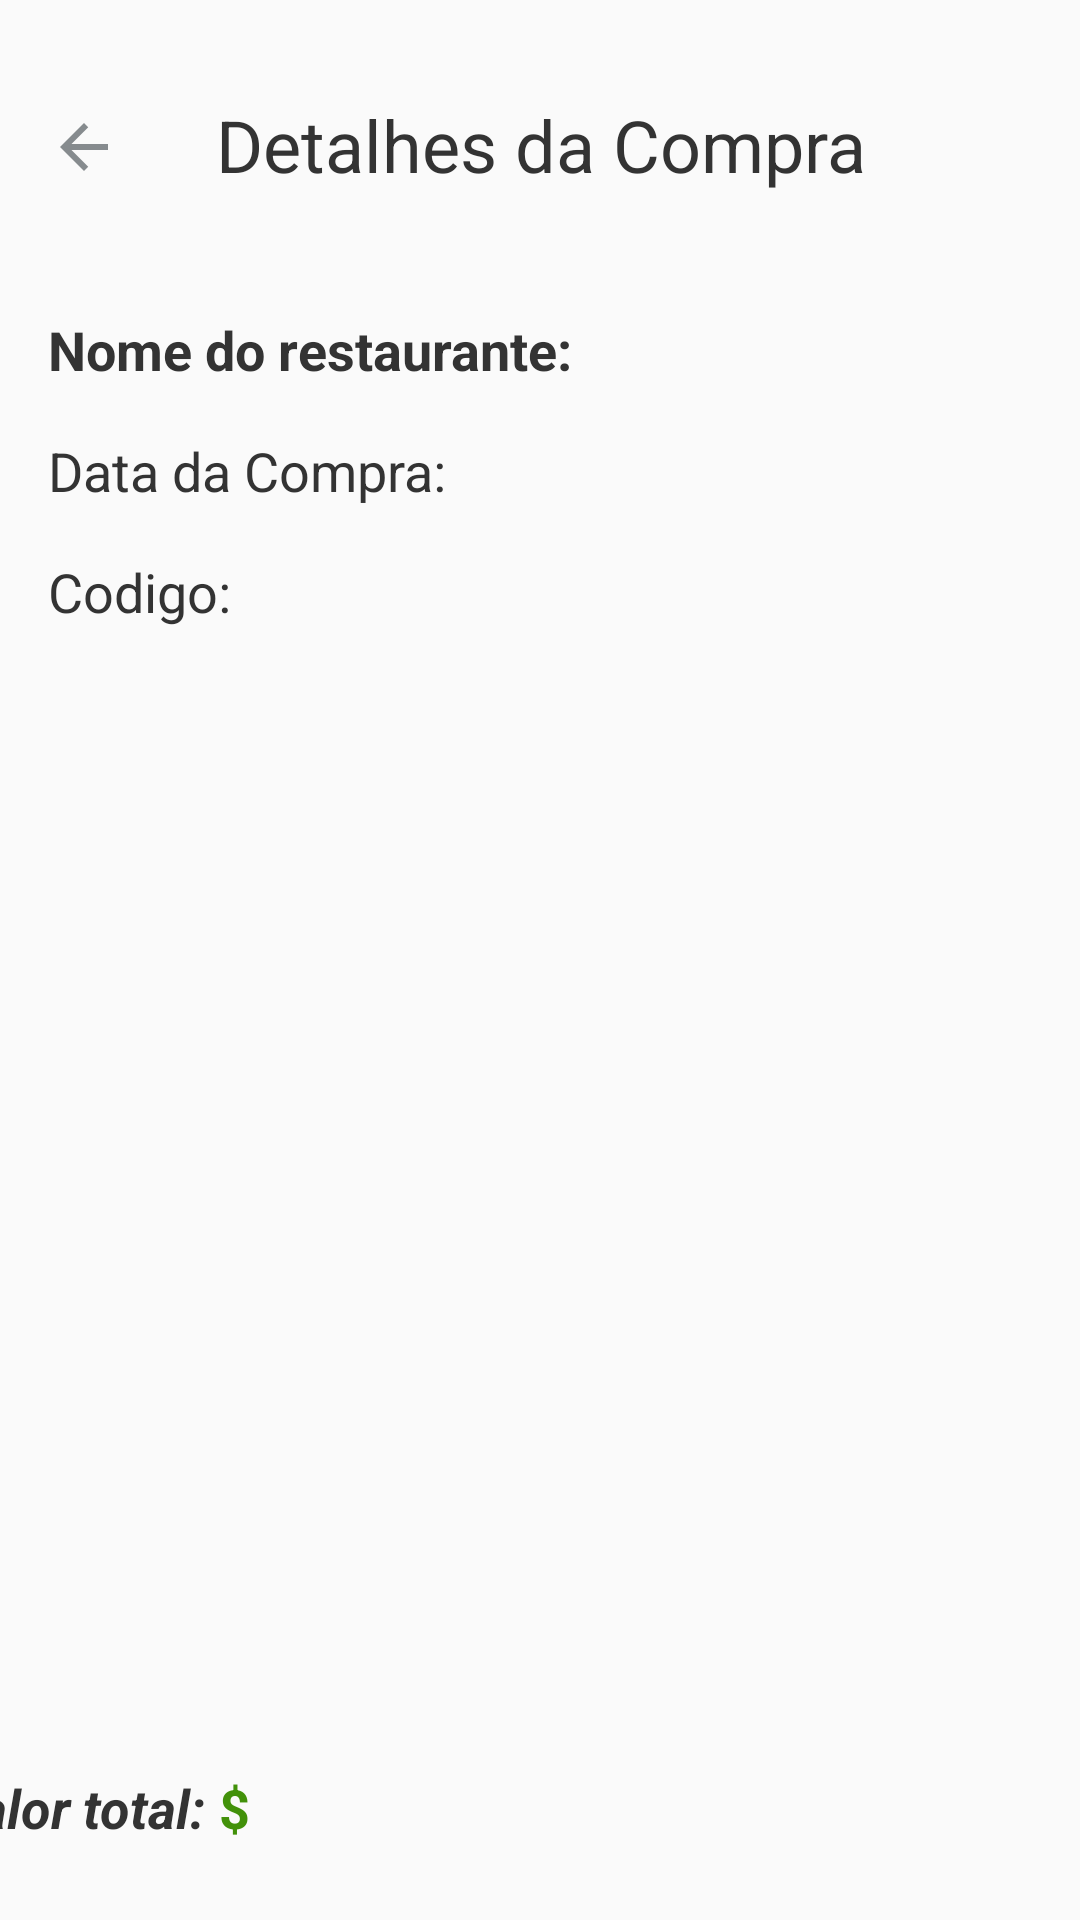

Screen size 1080x1920. Icon name, then its box in pixels as (x1, y1, x2, y2):
arrow back: (60, 123, 108, 171)
